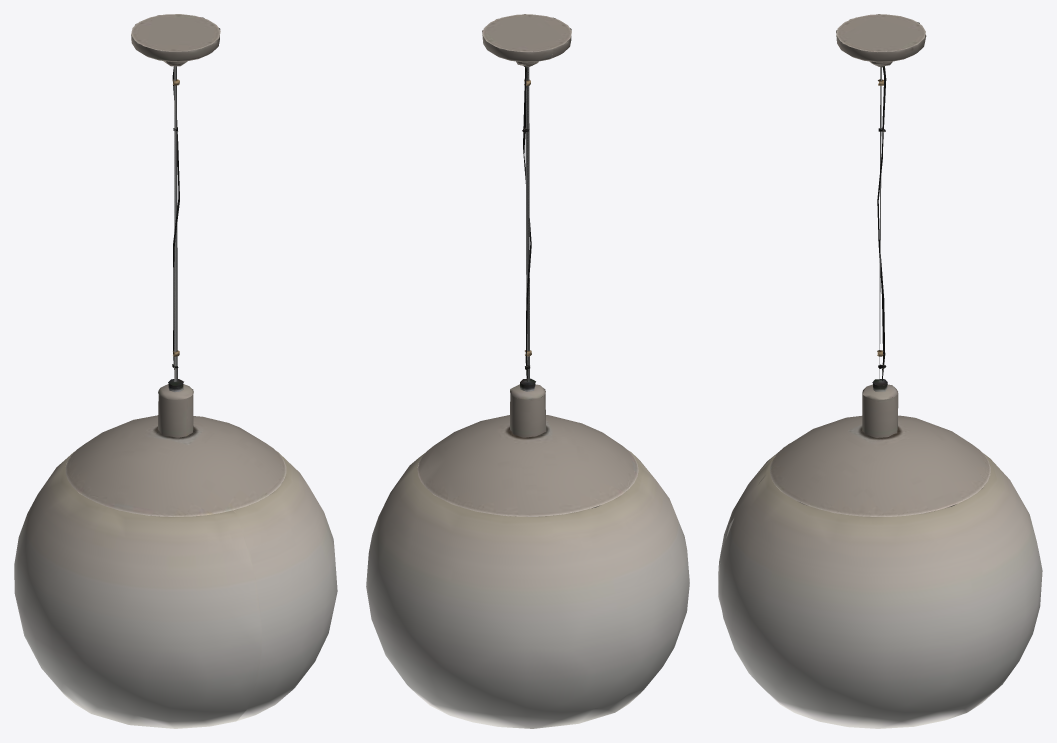
The model's file is ph_modern_ceiling_lamp_01.glb.
3 renders of one model, left to right at view 1: azimuth 30°, elevation 25°; view 2: azimuth 150°, elevation 25°; view 3: azimuth 270°, elevation 25°, orthographic.
Visible parts, largest first — view 1: modern_ceiling_lamp_01; view 2: modern_ceiling_lamp_01; view 3: modern_ceiling_lamp_01.
Boxes of the visible parts, bbox=[...] form: modern_ceiling_lamp_01: bbox=[14, 14, 337, 728]; modern_ceiling_lamp_01: bbox=[366, 14, 689, 728]; modern_ceiling_lamp_01: bbox=[718, 14, 1042, 728].
Size of the model in its own units: 0.4322 by 0.952 by 0.4321.
Materials: 3 (3 with a texture image).
